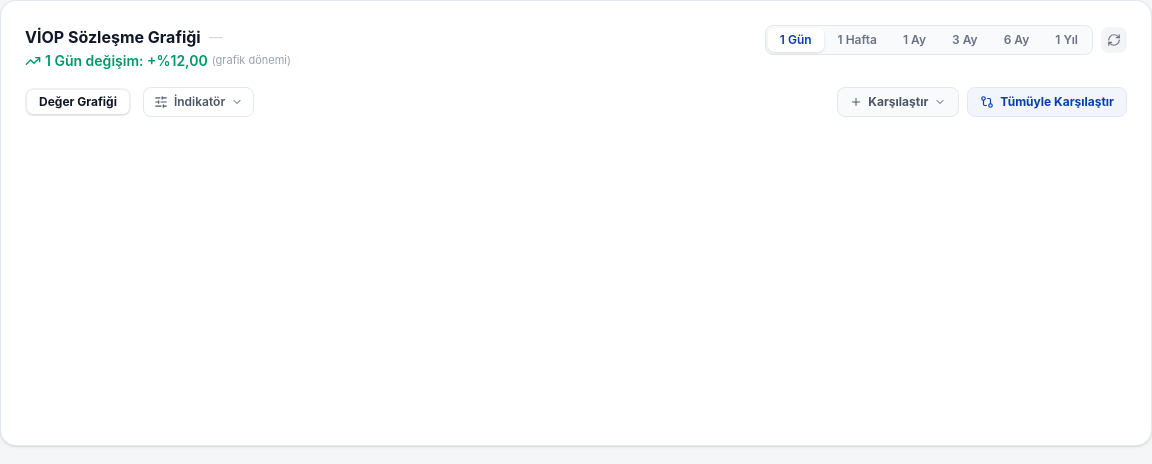
Scenario: ViopPriceChart (Vitest + @testing-library/react, jsdom) › karşılaştırma seçici (ViopCompareSelector) › "Karşılaştır" butonu açılınca sözleşme listesini çeker
Expected: the heading "VİOP Sözleşme Grafiği" is shown, [25,25,201,49]
// Sayfa-içi "Karşılaştır" (UniversalCompareButton "Tümüyle Karşılaştır"dan ayrı)
Click the button "Karşılaştır" at (898, 102), box [837,87,959,117]
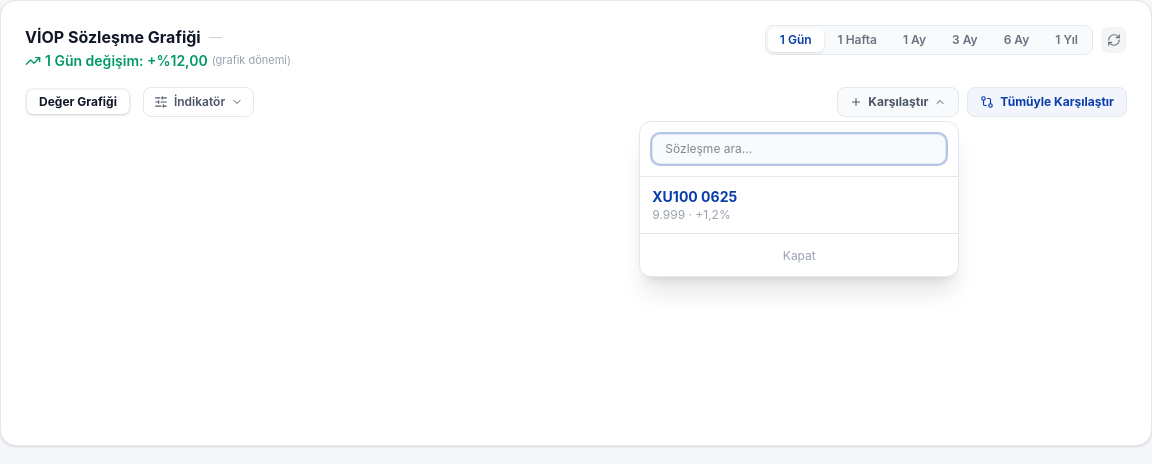
Expected: the field with placeholder "Sözleşme ara..." is shown, [652,134,946,164]
Expected: the text "XU100 0625" is shown, [652,187,737,207]
